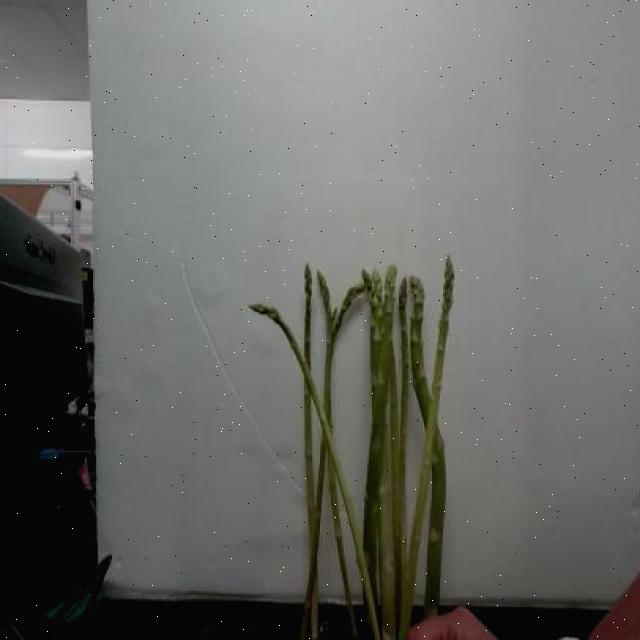aspargus: (239, 299, 387, 640), (394, 245, 462, 640)
